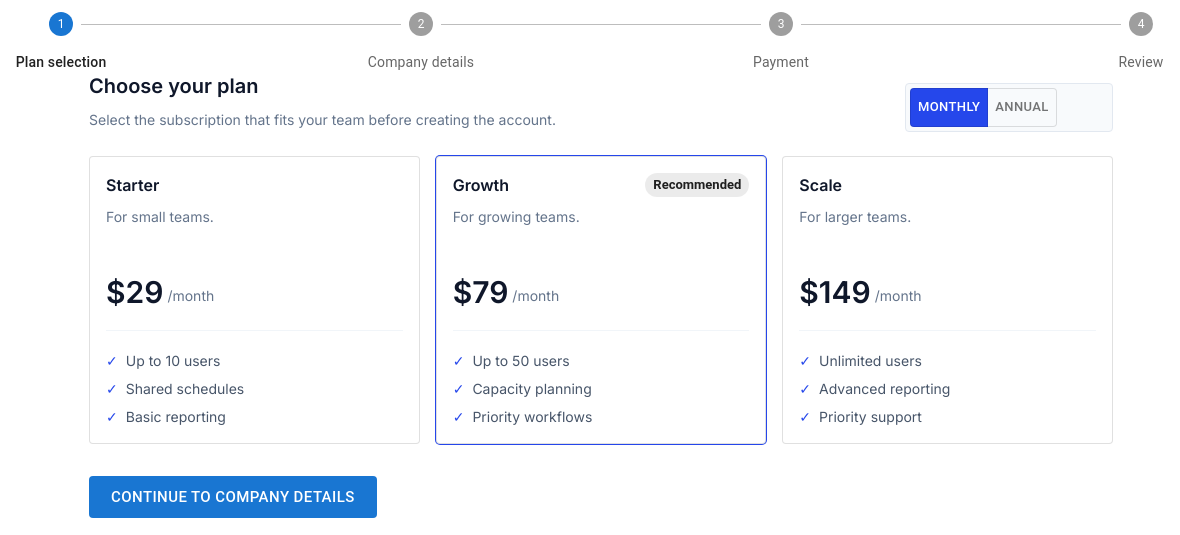
Scenario: registration contract › preserves validation, focus, accessible errors and disabled social sign-in
Click the button "Continue to company details" at (233, 497), box 89,476 -> 377,518
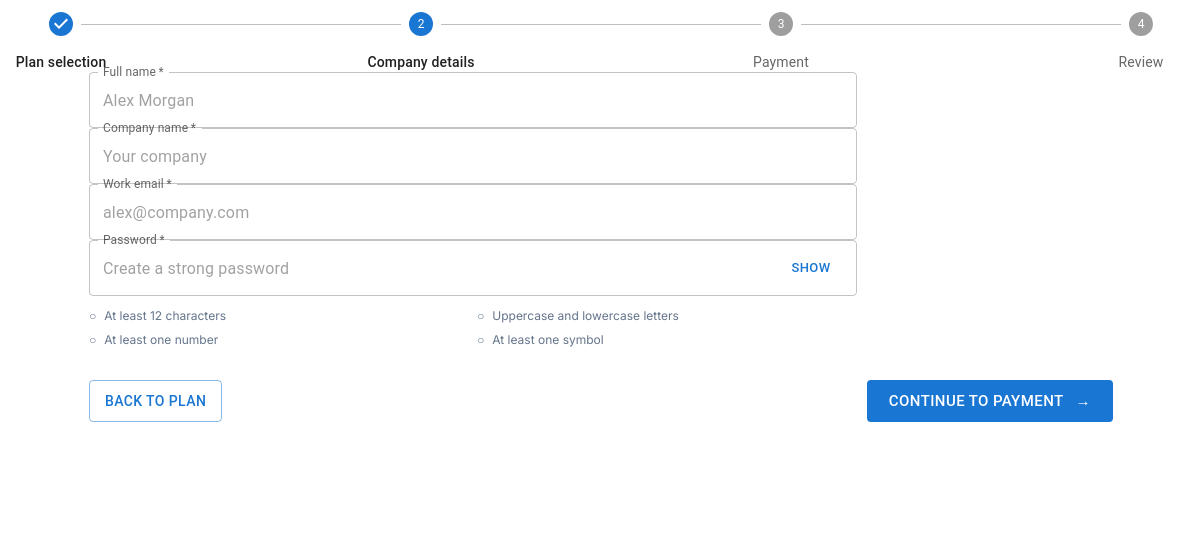
Click the button "Continue to payment →" at (990, 401), box 867,380 -> 1113,422
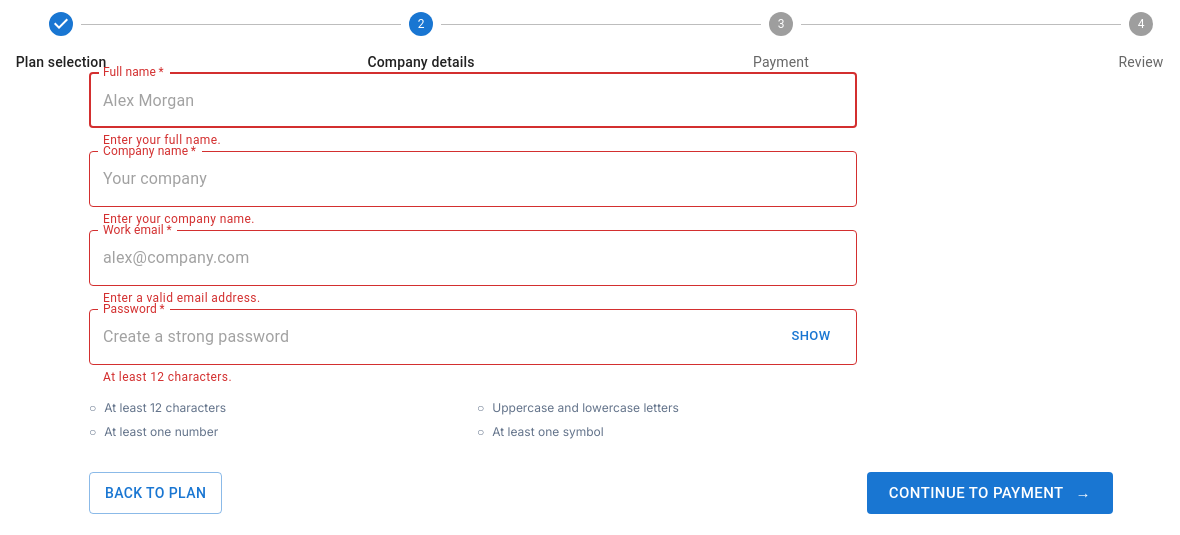
Check: the text "Enter your full name." is shown, box 103,133 -> 221,147
